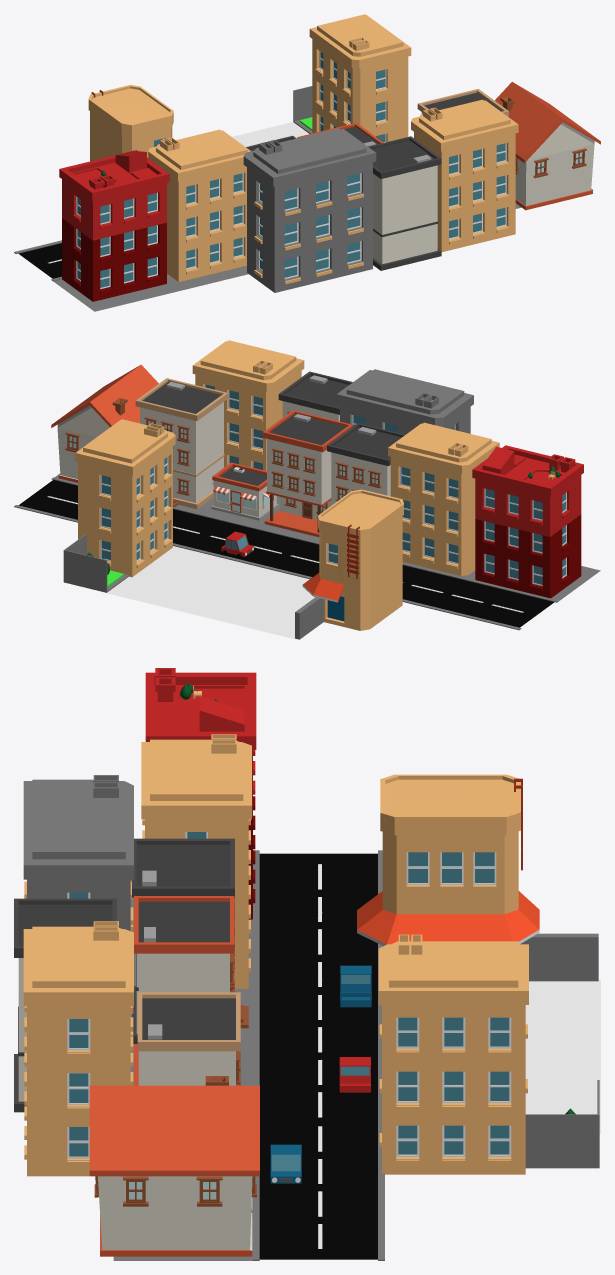
File: TutorialMap.fbx
The picture shows the model from 3 angles, top to bottom: view 1: azimuth 30°, elevation 25°; view 2: azimuth 150°, elevation 25°; view 3: azimuth 270°, elevation 25°; orthographic projection. The views are drawn at different scales.
Visible parts, largest first — view 1: building010, building2, building009, building008, building1, Flat003, House2, building3, Box005, BackGround_Floor, Flat002, Box006 (+1 smaller); view 2: BackGround_Floor, building2, building1, building008, building3, building009, Flat2, Flat002, building010, House2, Flat1, Shop (+6 smaller); view 3: BackGround_Floor, building1, House2, building3, building009, building010, building008, Flat2, Flat002, building2, Flat1, Flat003 (+7 smaller).
Part boxes in pixels (x1,y1,x2,y2): building010: (243, 128, 376, 292); building2: (59, 150, 169, 301); building009: (411, 99, 518, 252); building008: (148, 129, 250, 281); building1: (309, 14, 411, 142); Flat003: (368, 136, 441, 270); House2: (495, 82, 600, 210); building3: (88, 85, 173, 161); Box005: (51, 189, 592, 311); BackGround_Floor: (19, 122, 309, 278); Flat002: (417, 89, 508, 116); Box006: (293, 86, 312, 133); BackGround_Floor: (19, 480, 554, 639); building2: (472, 445, 583, 598); building1: (75, 419, 175, 577); building008: (388, 422, 499, 575); building3: (302, 489, 403, 630); building009: (192, 340, 304, 470); Flat2: (263, 410, 353, 537); Flat002: (135, 378, 228, 509); building010: (336, 369, 473, 434); House2: (51, 364, 158, 482); Flat1: (327, 423, 405, 505); Shop: (211, 462, 278, 520); BackGround_Floor: (259, 853, 600, 1259); building1: (378, 934, 528, 1174); House2: (89, 1076, 259, 1256); building3: (357, 774, 539, 946); building009: (23, 921, 133, 1176); building010: (23, 775, 133, 1036); building008: (141, 734, 251, 988); Flat2: (134, 896, 234, 1085); Flat002: (137, 992, 240, 1085); building2: (145, 668, 256, 919); Flat1: (132, 838, 248, 1043); Flat003: (14, 898, 116, 1112).
Bounding box in the file's own units: 8505 × 2064 × 5153.
23 materials, 6 textured.
